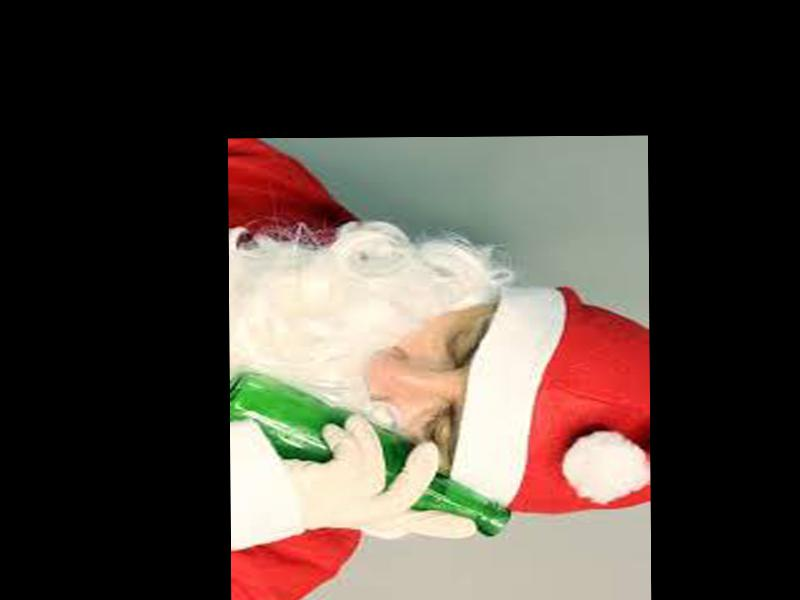Beer: (229, 373, 508, 540)
